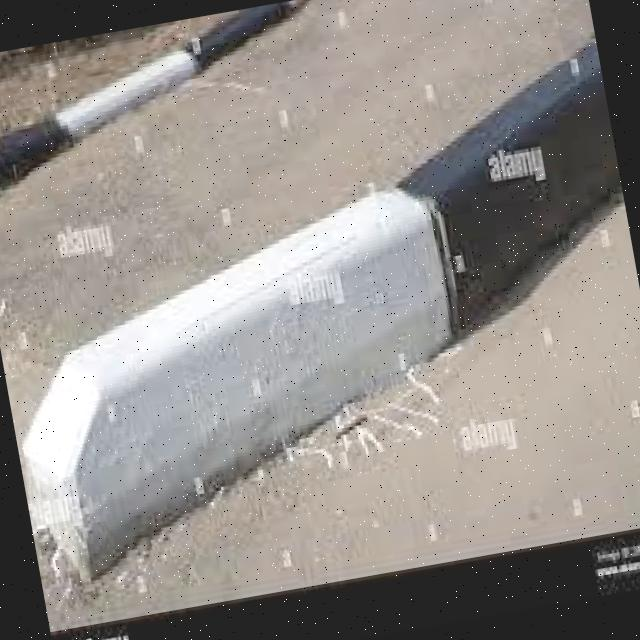curb: (26, 186, 451, 591), (393, 35, 627, 357)
